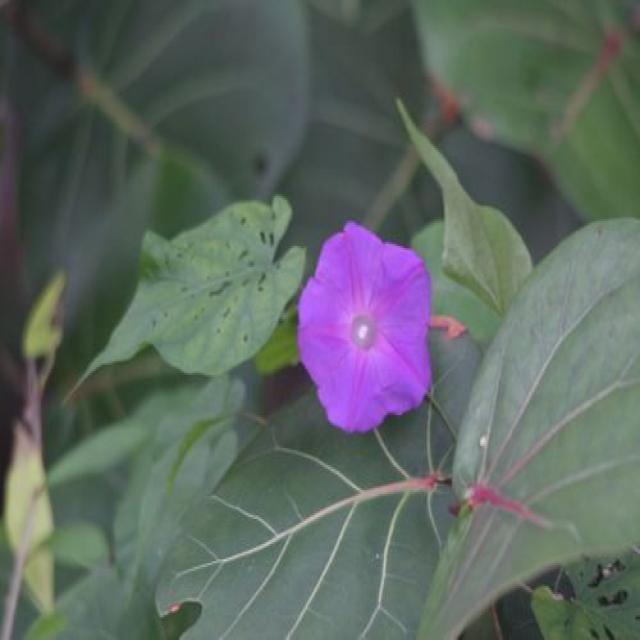ipomoea: (293, 217, 438, 438)
